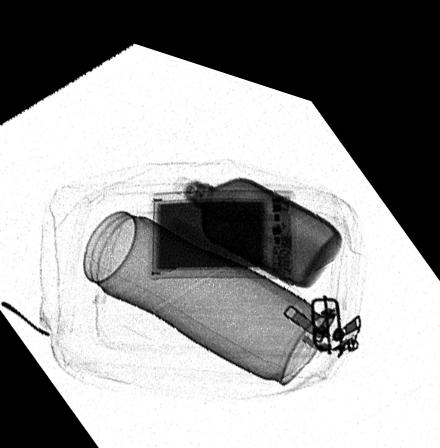Powerbank: (147, 172, 295, 269)
